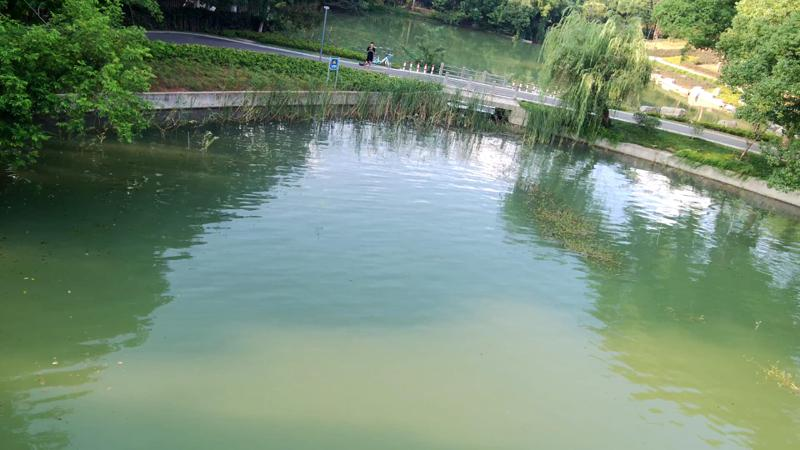passerby: (363, 40, 375, 72)
